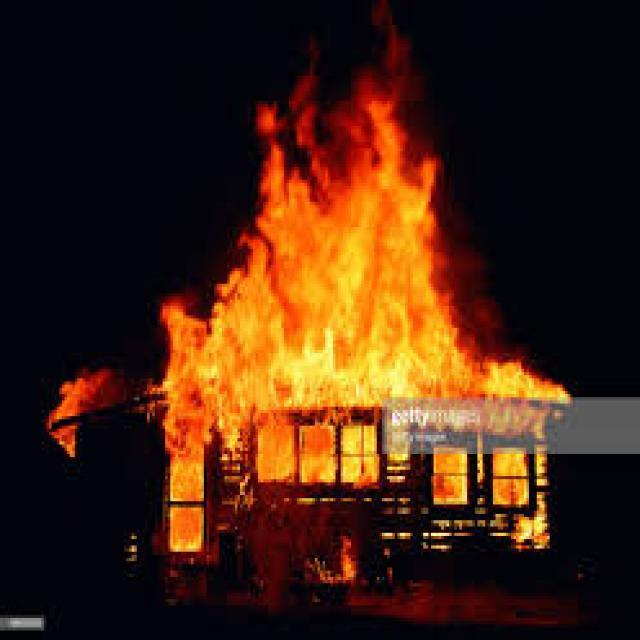Fire: (179, 198, 508, 420), (422, 439, 540, 523), (164, 428, 206, 554)
